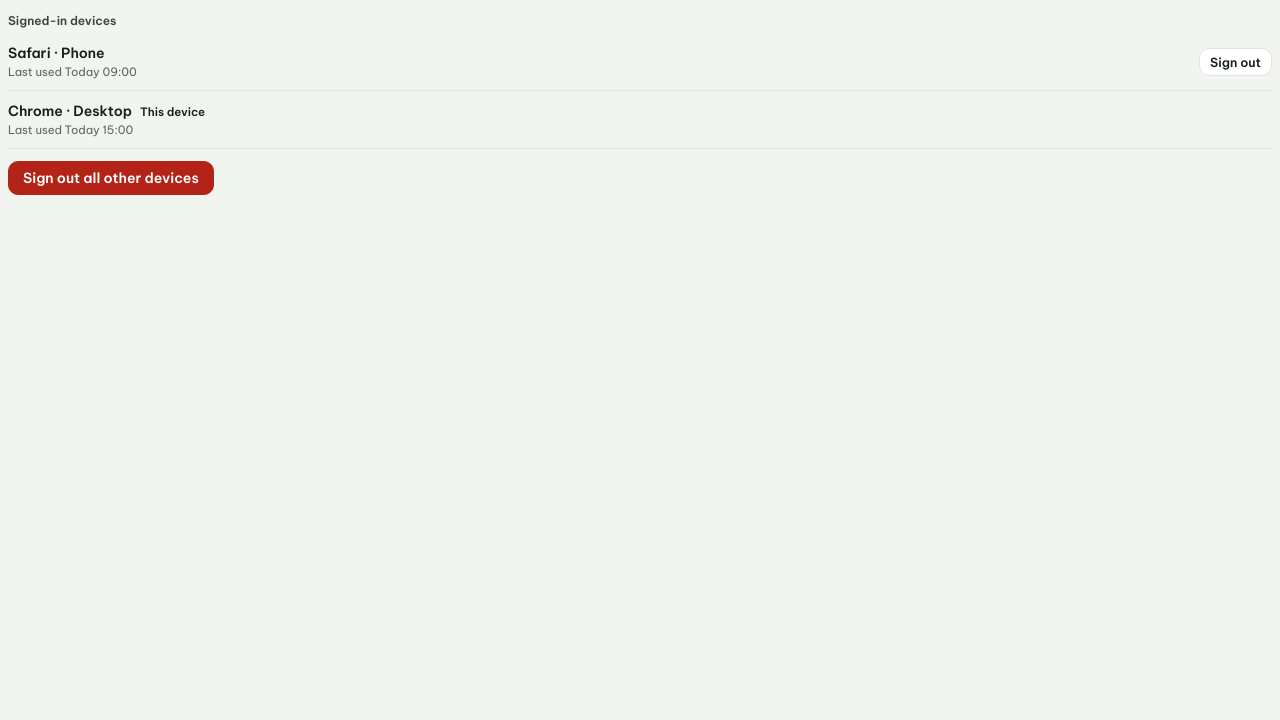
Test: the confirmation for one device (R17) › Confirm sends one endOne with the id, closes and reads the list again
Click the button with aria-label "Sign out Safari". click: x=1236, y=62
box: x1=1199 y1=48 x2=1272 y2=76
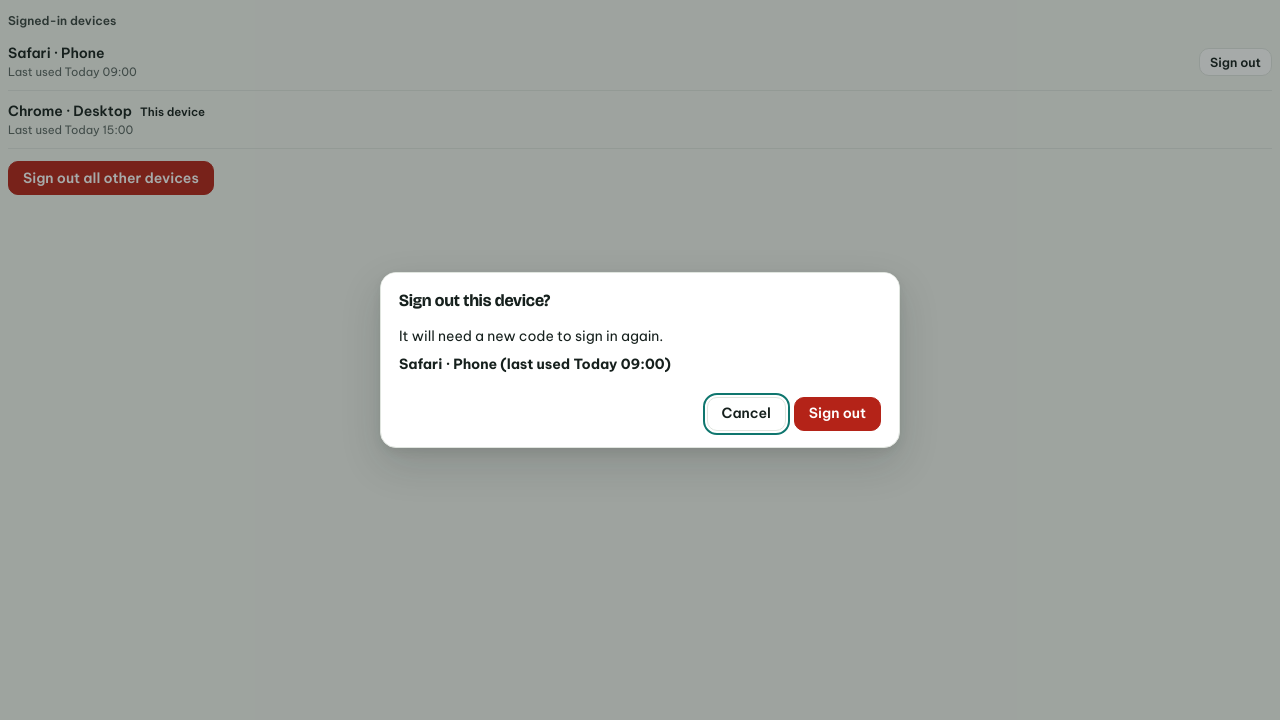
Click the button "Sign out". click: x=837, y=414
box: x1=794 y1=397 x2=881 y2=431
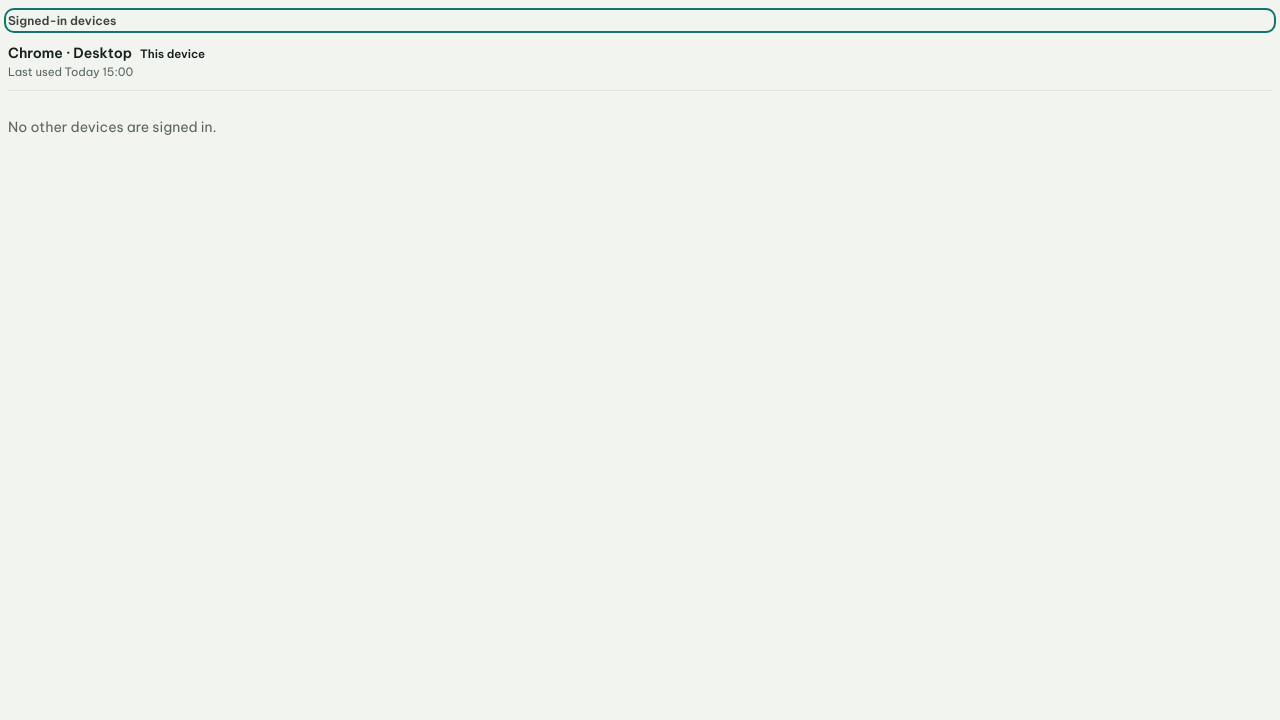
expect the dialog is gone: met
expect the text "Safari · Phone" is gone: met
